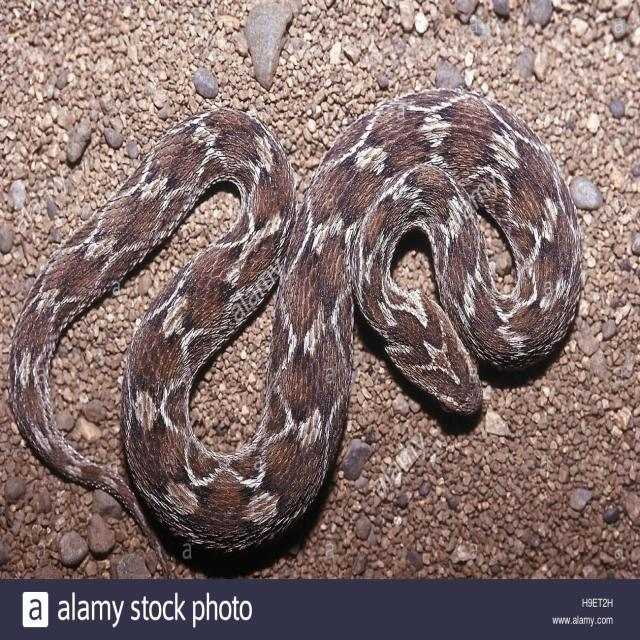Snake: (6, 86, 582, 566)
